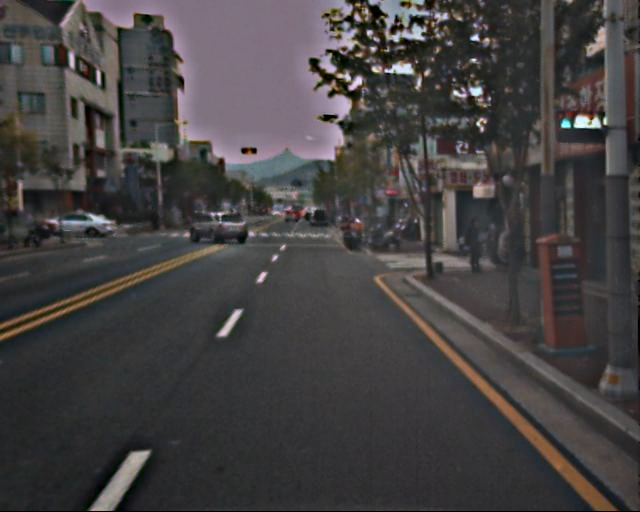person: (462, 214, 487, 275)
